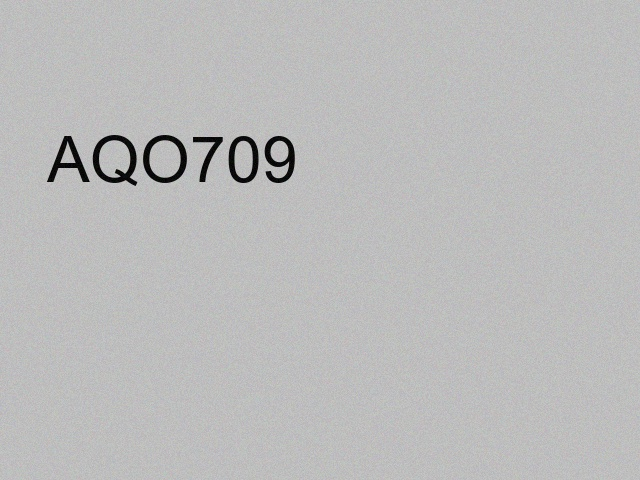OCR_AREA: (42, 131, 302, 190)
